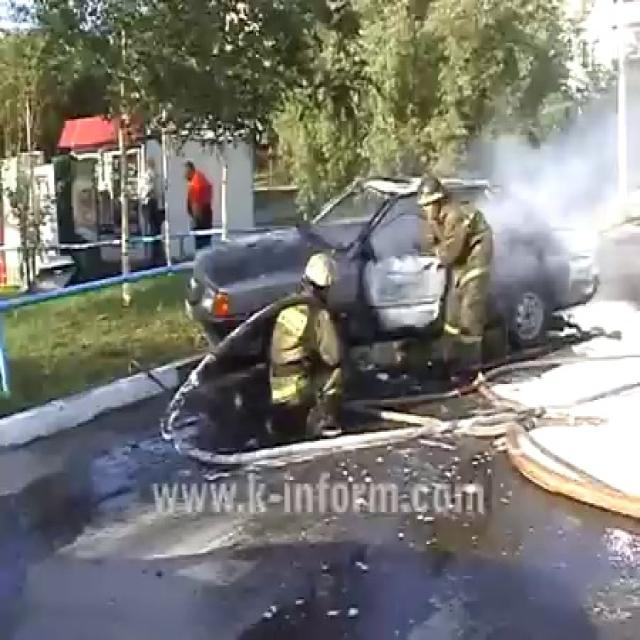Smoke: (465, 19, 640, 322)
